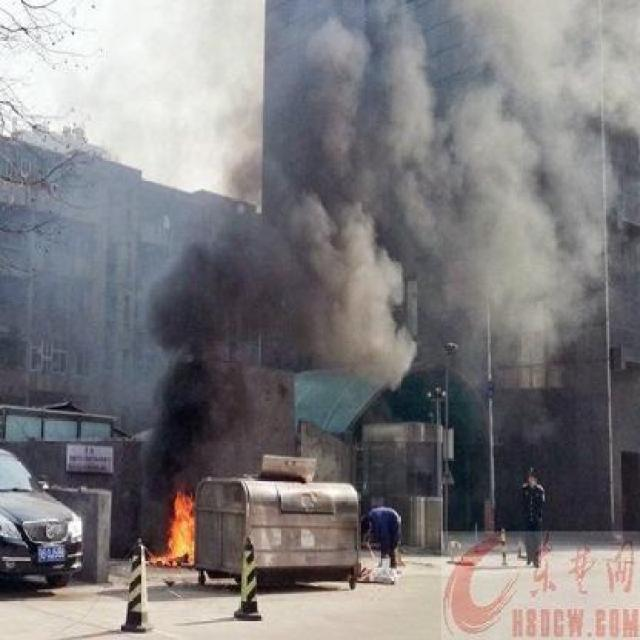Fire: (152, 486, 198, 568)
Smoke: (132, 0, 621, 488)
